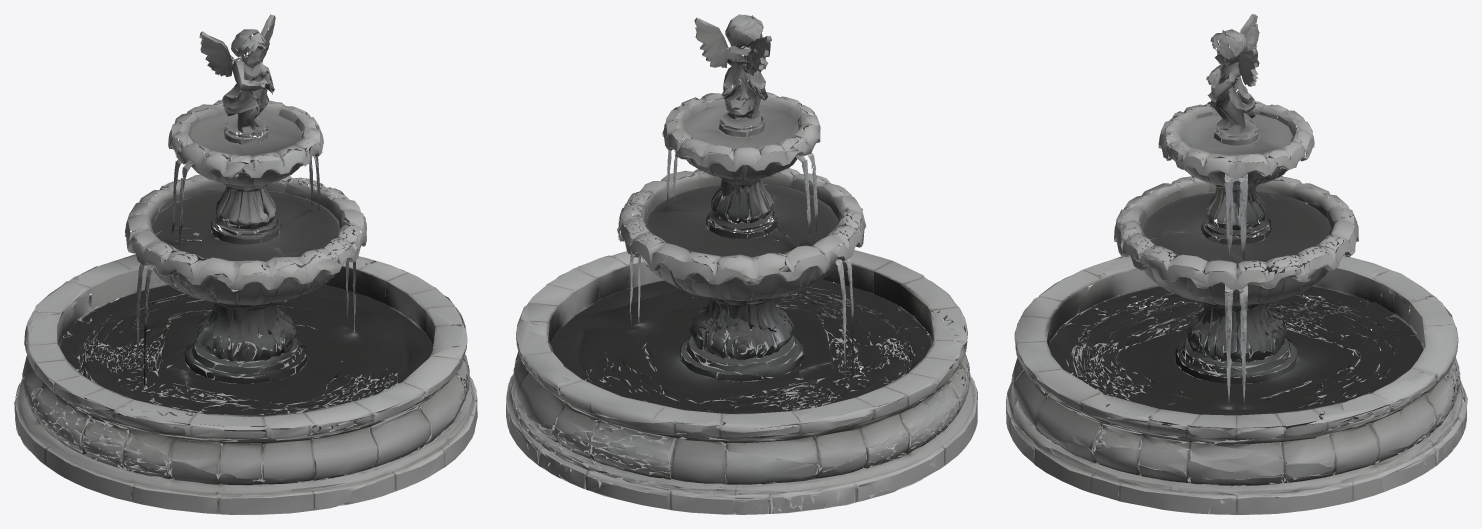
Rendered from hunyuan-fountain.glb.
The picture shows the model from 3 angles, left to right: view 1: azimuth 30°, elevation 25°; view 2: azimuth 150°, elevation 25°; view 3: azimuth 270°, elevation 25°; orthographic projection. The views are drawn at different scales.
Parts seen in each view (by area): view 1: node_0; view 2: node_0; view 3: node_0.
Part boxes in pixels (box(x1,y1,x2,y2)): node_0: box(14, 14, 477, 514); node_0: box(506, 14, 977, 514); node_0: box(1006, 14, 1467, 514).
Bounding box in the file's own units: 0.8806 × 0.8162 × 0.8823.
Materials: 1 (1 with a texture image).
